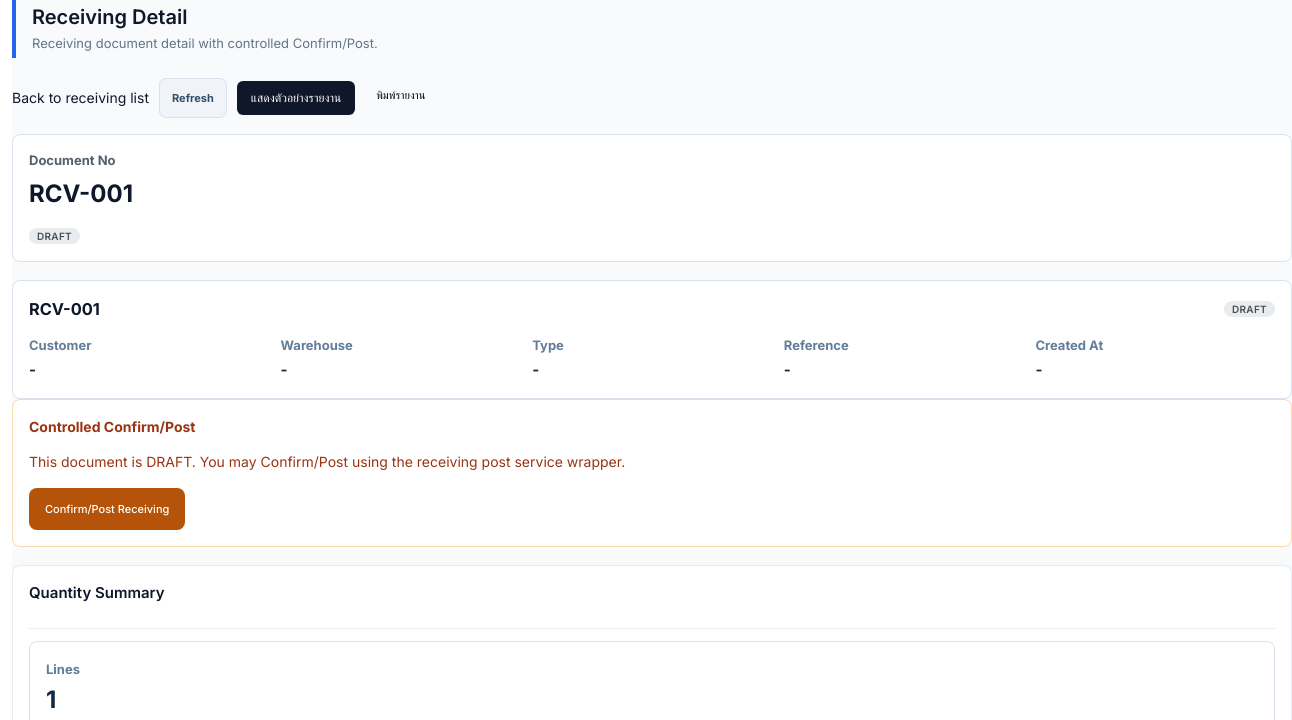
Test: Sprint 13J-AO Receiving Role / Permission Hardening › ReceivingDetailPage › shows Confirm/Post button to admin and handles RPC permission error
What coordinates should you click on to do the following:
click the button "Confirm/Post Receiving"
I would click on:
 (107, 509)
Its box is [29,488,185,530].
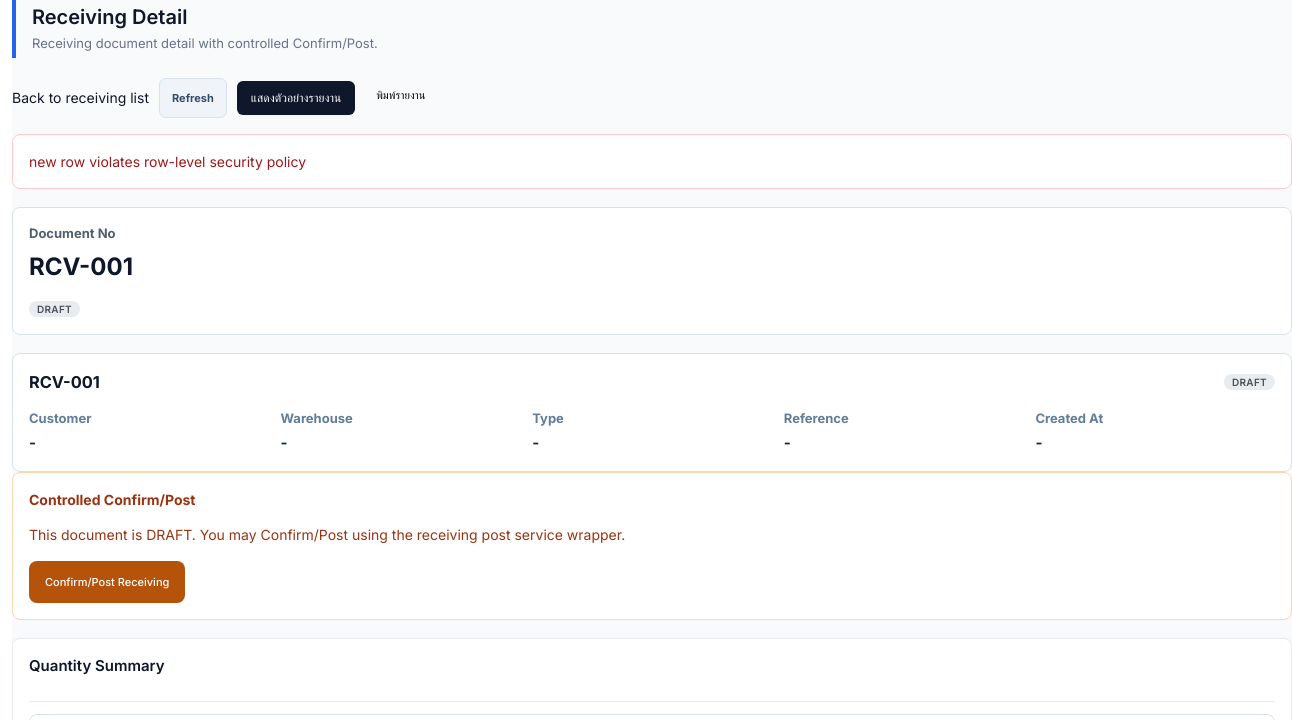
Expected: the message shows "row-level security policy", [29,152,306,170]
